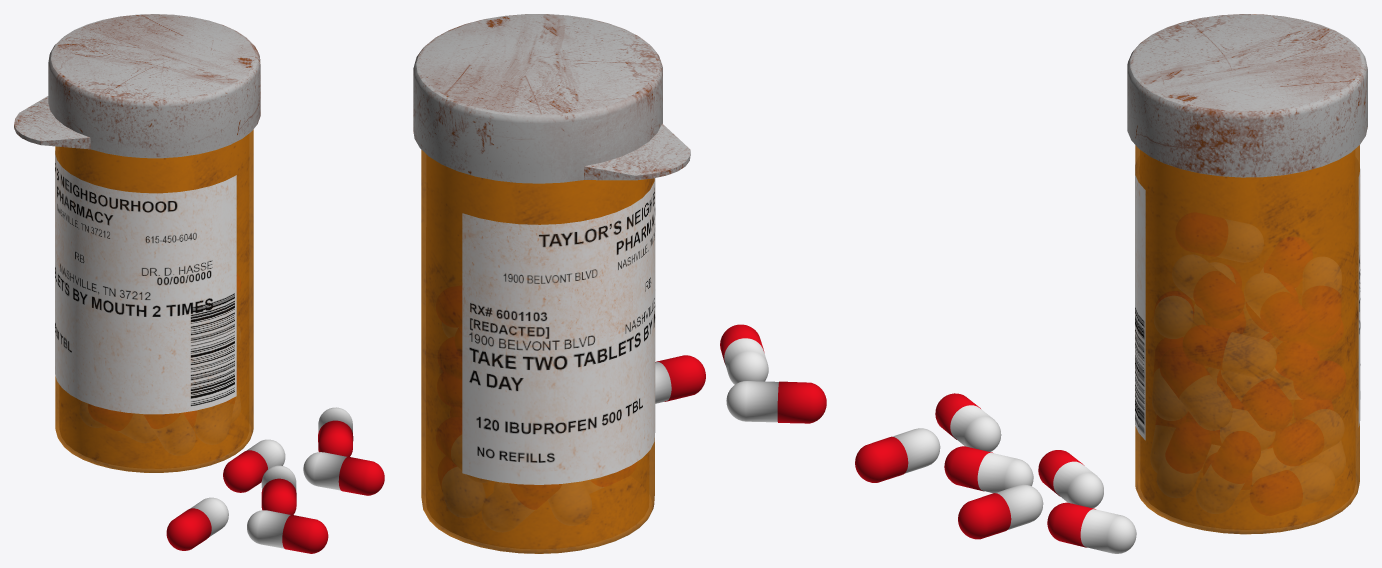
The picture shows the model from 3 angles, left to right: view 1: azimuth 30°, elevation 25°; view 2: azimuth 150°, elevation 25°; view 3: azimuth 270°, elevation 25°; orthographic projection. The views are drawn at different scales.
Parts seen in each view (by area): view 1: label, cap, bottle, Sphere.031, Sphere.034, Sphere.033, Sphere.030, Sphere.032, Sphere.029; view 2: label, cap, bottle, Sphere.033, Sphere.034, Sphere.032; view 3: bottle, cap, label, Sphere.029, Sphere.031, Sphere.034, Sphere.032, Sphere.033, Sphere.030.
Part boxes in pixels (<box>): label: <box>55,150,236,414</box>; cap: <box>14,14,260,158</box>; bottle: <box>55,129,253,472</box>; Sphere.031: <box>303,452,384,495</box>; Sphere.034: <box>247,510,328,553</box>; Sphere.033: <box>166,497,228,550</box>; Sphere.030: <box>223,439,285,492</box>; Sphere.032: <box>261,465,296,514</box>; Sphere.029: <box>318,407,353,456</box>; label: <box>462,178,655,484</box>; cap: <box>413,14,690,183</box>; bottle: <box>421,150,654,553</box>; Sphere.033: <box>726,381,826,423</box>; Sphere.034: <box>720,324,768,384</box>; Sphere.032: <box>655,355,705,403</box>; bottle: <box>1135,145,1359,534</box>; cap: <box>1127,14,1367,177</box>; label: <box>1135,164,1360,440</box>; Sphere.029: <box>1047,502,1136,553</box>; Sphere.031: <box>958,484,1043,539</box>; Sphere.034: <box>855,428,940,482</box>; Sphere.032: <box>944,446,1033,493</box>; Sphere.033: <box>935,393,1001,451</box>; Sphere.030: <box>1038,450,1103,508</box>.
Bounding box in the file's own units: 117 × 157 × 171.
5 materials, 3 textured.
